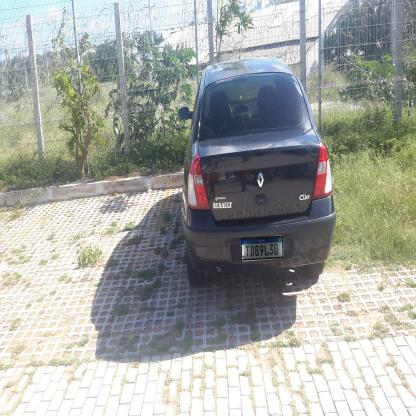PlacaM: (241, 236, 283, 260)
